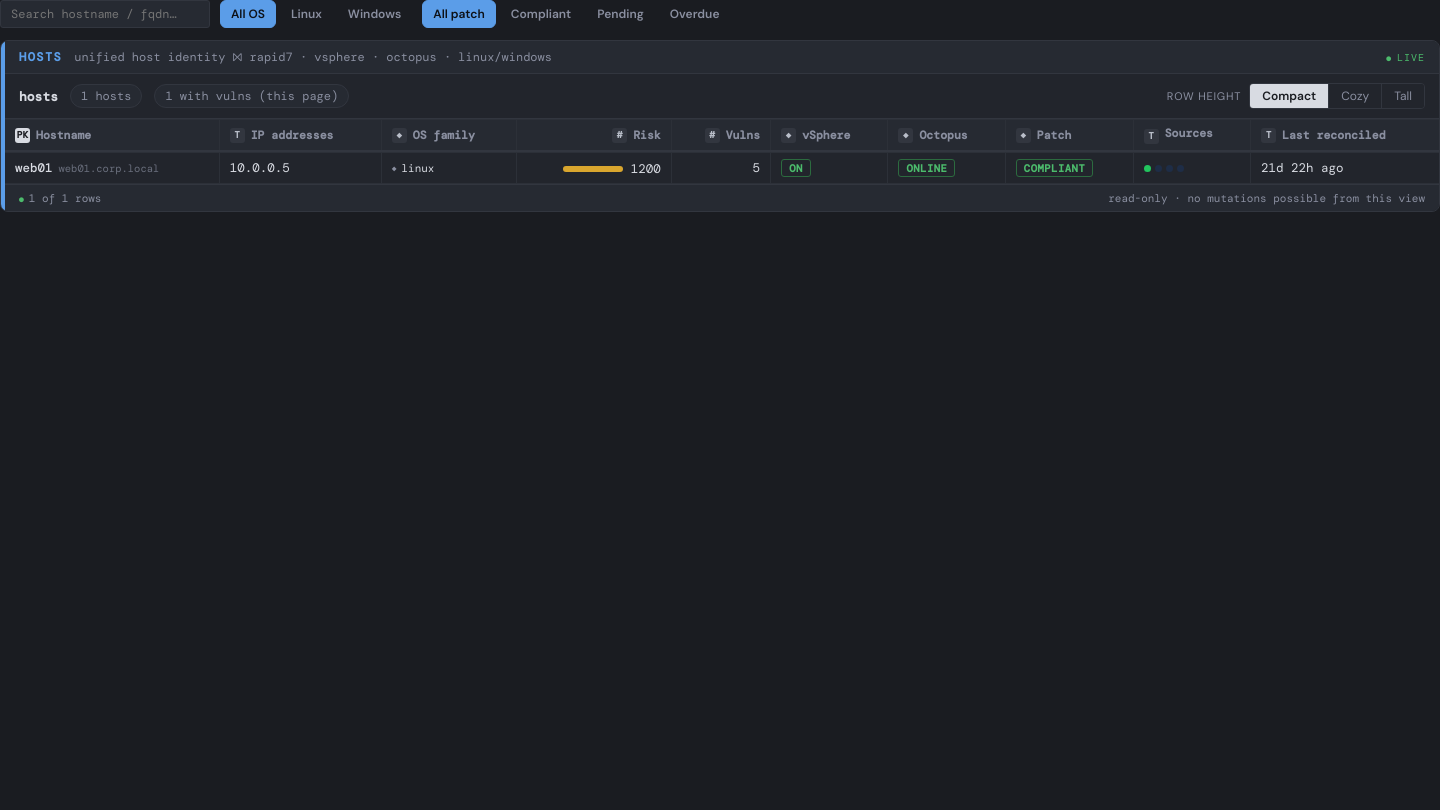
Scenario: UnifiedHostsTab — host-vulns drawer VULN panel rail › renders the 'warn' rail when the host has only moderate-severity open CVEs
Expected: the text "web01" is shown, x1=15 y1=160 x2=52 y2=176
Click the text "web01" at (722, 168), box x1=5 y1=152 x2=1439 y2=184
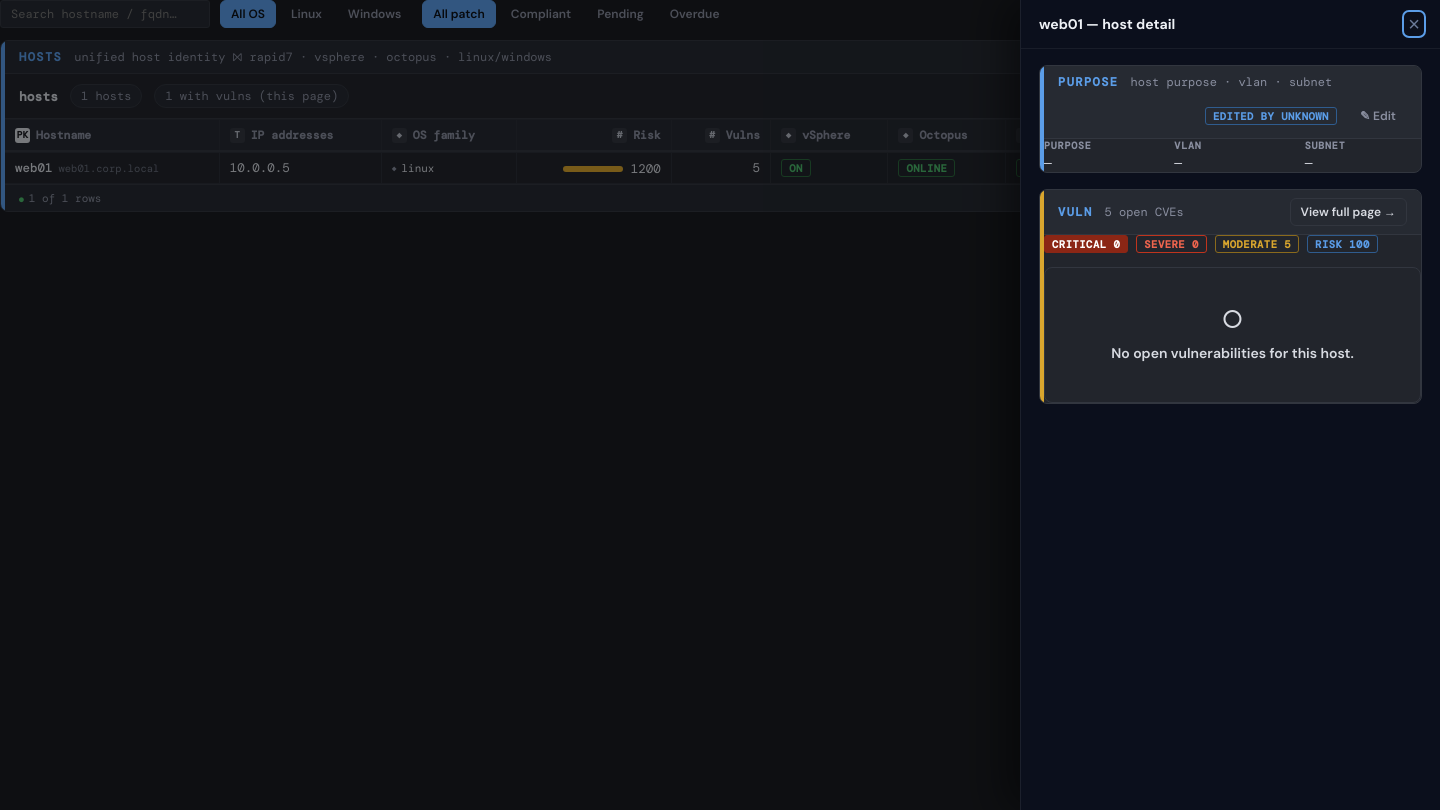
Result: the element "VULN" is shown at x1=1039 y1=189 x2=1422 y2=404
Result: the text "Moderate 5" is shown at x1=1215 y1=235 x2=1299 y2=253
